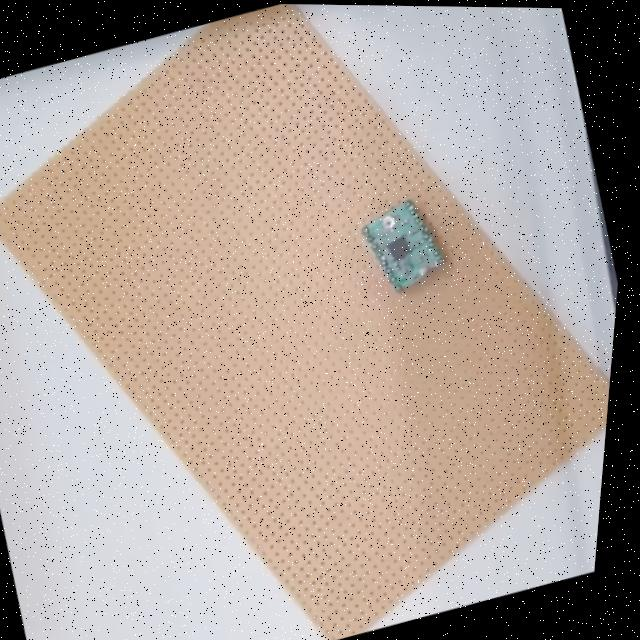Chip: (343, 180, 461, 306)
